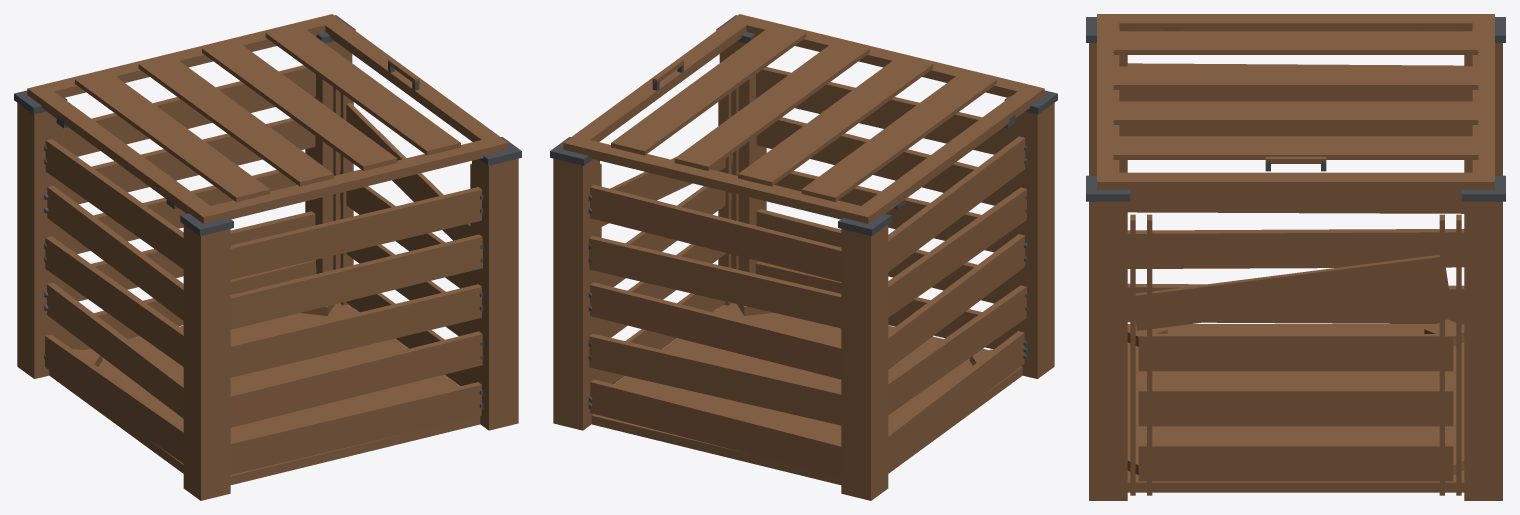
File: compost-bin.glb
3 renders of one model, left to right at view 1: azimuth 30°, elevation 25°; view 2: azimuth 150°, elevation 25°; view 3: azimuth 270°, elevation 25°, orthographic. The views are drawn at different scales.
Parts seen in each view (by area): view 1: Mesh_DirtFloor, Mesh_Post_BR, Mesh_Post_FR, Mesh_Post_BL, Mesh_PlankR_3, Mesh_PlankR_1, Mesh_PlankR_4, Mesh_PlankR_2, Mesh_PlankR_0, Mesh_RoofSlat_2, Mesh_RoofSlat_0, Mesh_RoofSlat_1 (+23 smaller); view 2: Mesh_DirtFloor, Mesh_Post_BL, Mesh_Post_FL, Mesh_Post_BR, Mesh_PlankL_3, Mesh_PlankL_1, Mesh_PlankL_0, Mesh_PlankL_4, Mesh_PlankL_2, Mesh_RoofSlat_2, Mesh_RoofSlat_0, Mesh_RoofSlat_1 (+23 smaller); view 3: Mesh_DirtFloor, Mesh_PlankB_1, Mesh_Post_FL, Mesh_Post_FR, Mesh_FrontSlat_0, Mesh_FrontSlat_1, Mesh_FrontSlat_2, Mesh_FrontSlat_3, Mesh_RoofSlat_0, Mesh_RoofSlat_1, Mesh_RoofSlat_2, Mesh_RoofSlat_3 (+17 smaller).
Boxes of the visible parts, x1,y1,x2,y2 form: Mesh_DirtFloor: (49,303,480,484); Mesh_Post_BR: (183,225,230,500); Mesh_Post_FR: (472,158,518,430); Mesh_Post_BL: (17,103,63,378); Mesh_PlankR_3: (230,234,482,329); Mesh_PlankR_1: (230,331,482,427); Mesh_PlankR_4: (230,187,481,279); Mesh_PlankR_2: (230,284,481,377); Mesh_PlankR_0: (230,382,481,474); Mesh_RoofSlat_2: (202,40,397,170); Mesh_RoofSlat_0: (75,71,270,201); Mesh_RoofSlat_1: (138,56,333,186); Mesh_DirtFloor: (591,303,1022,484); Mesh_Post_BL: (841,225,888,500); Mesh_Post_FL: (553,158,599,430); Mesh_Post_BR: (1008,103,1054,378); Mesh_PlankL_3: (589,236,841,328); Mesh_PlankL_1: (589,334,841,425); Mesh_PlankL_0: (590,379,841,477); Mesh_PlankL_4: (590,184,841,281); Mesh_PlankL_2: (590,282,841,379); Mesh_RoofSlat_2: (674,40,869,170); Mesh_RoofSlat_0: (801,71,996,201); Mesh_RoofSlat_1: (738,56,933,186); Mesh_DirtFloor: (1127,324,1464,492); Mesh_PlankB_1: (1127,228,1464,268); Mesh_Post_FL: (1464,201,1502,500); Mesh_Post_FR: (1089,201,1127,500); Mesh_FrontSlat_0: (1138,444,1453,481); Mesh_FrontSlat_1: (1138,389,1453,426); Mesh_FrontSlat_2: (1138,334,1453,371); Mesh_FrontSlat_3: (1135,254,1448,330); Mesh_RoofSlat_0: (1113,31,1478,54); Mesh_RoofSlat_1: (1113,66,1478,89); Mesh_RoofSlat_2: (1113,101,1478,124); Mesh_RoofSlat_3: (1113,136,1478,159).
Size of the model in its own units: 1.52 by 1.32 by 1.52.
